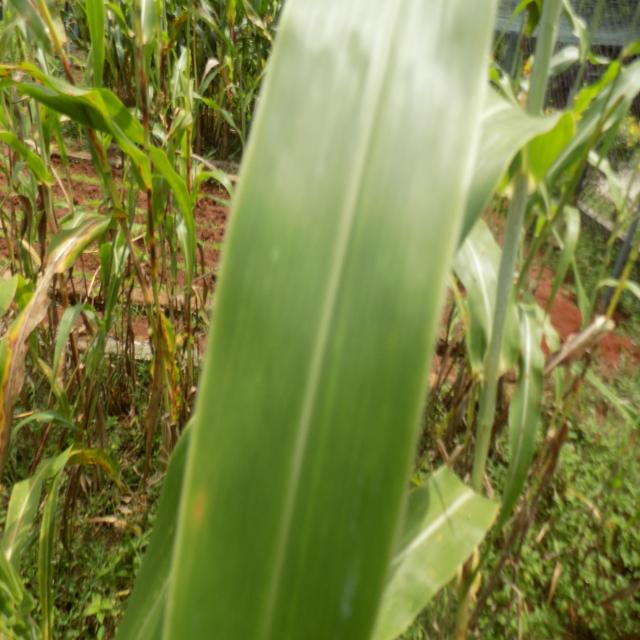millet_healthy: (162, 1, 494, 639), (339, 55, 589, 414), (0, 65, 203, 302), (0, 441, 106, 640), (484, 275, 552, 539)
millet_rust: (0, 197, 118, 475)
